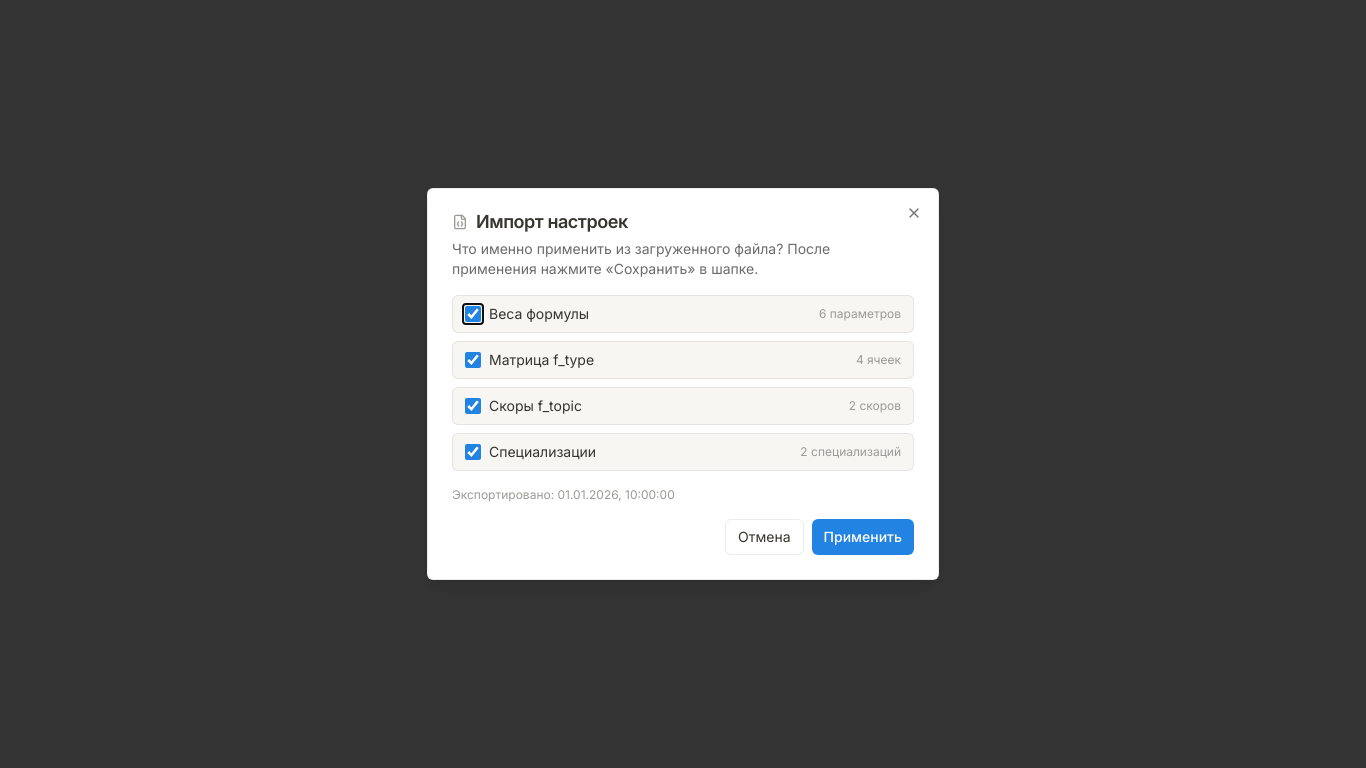
Scenario: ImportPreviewDialog › disables apply when nothing selected
The width and height of the screenshot is (1366, 768).
Click the checkbox labelled "Веса формулы". click: (473, 314)
box: [465,306,481,322]
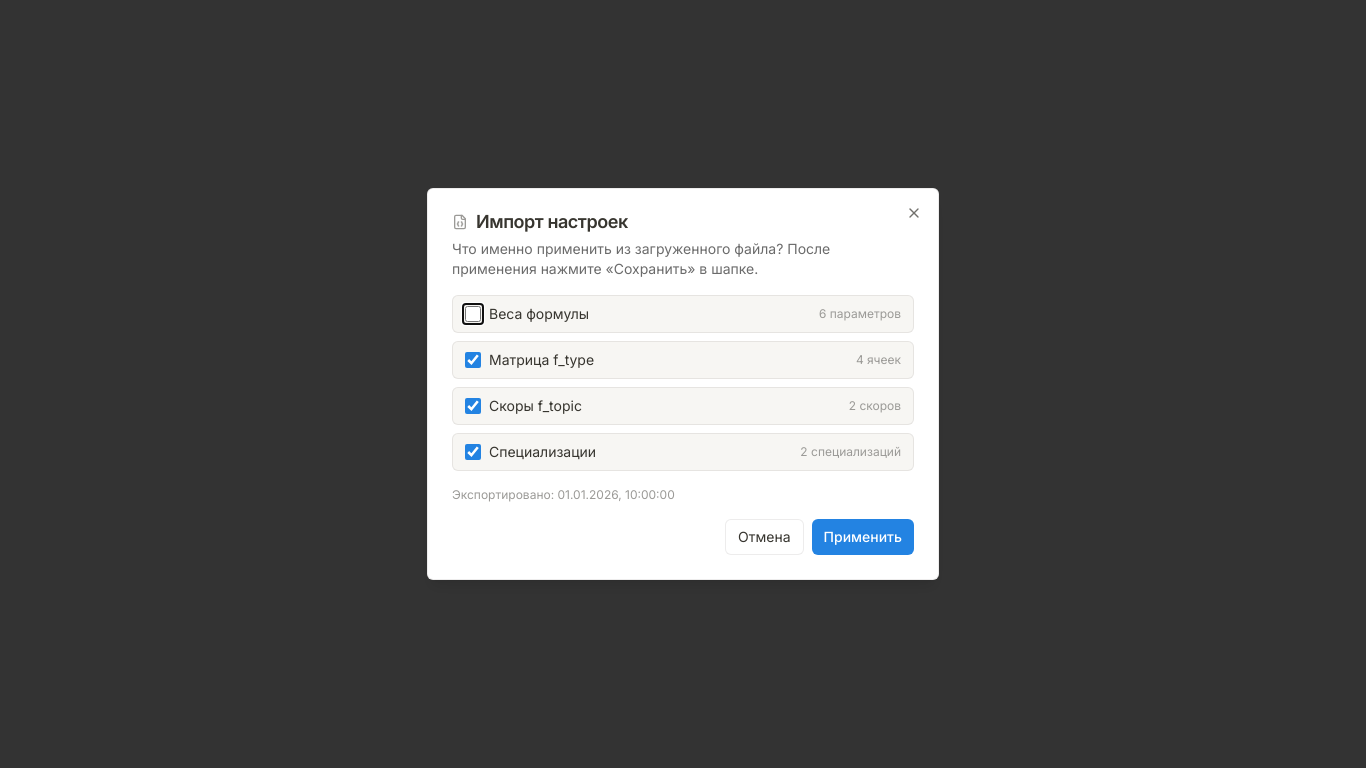
Click the checkbox labelled "Матрица f_type". click: (473, 360)
box: [465,352,481,368]
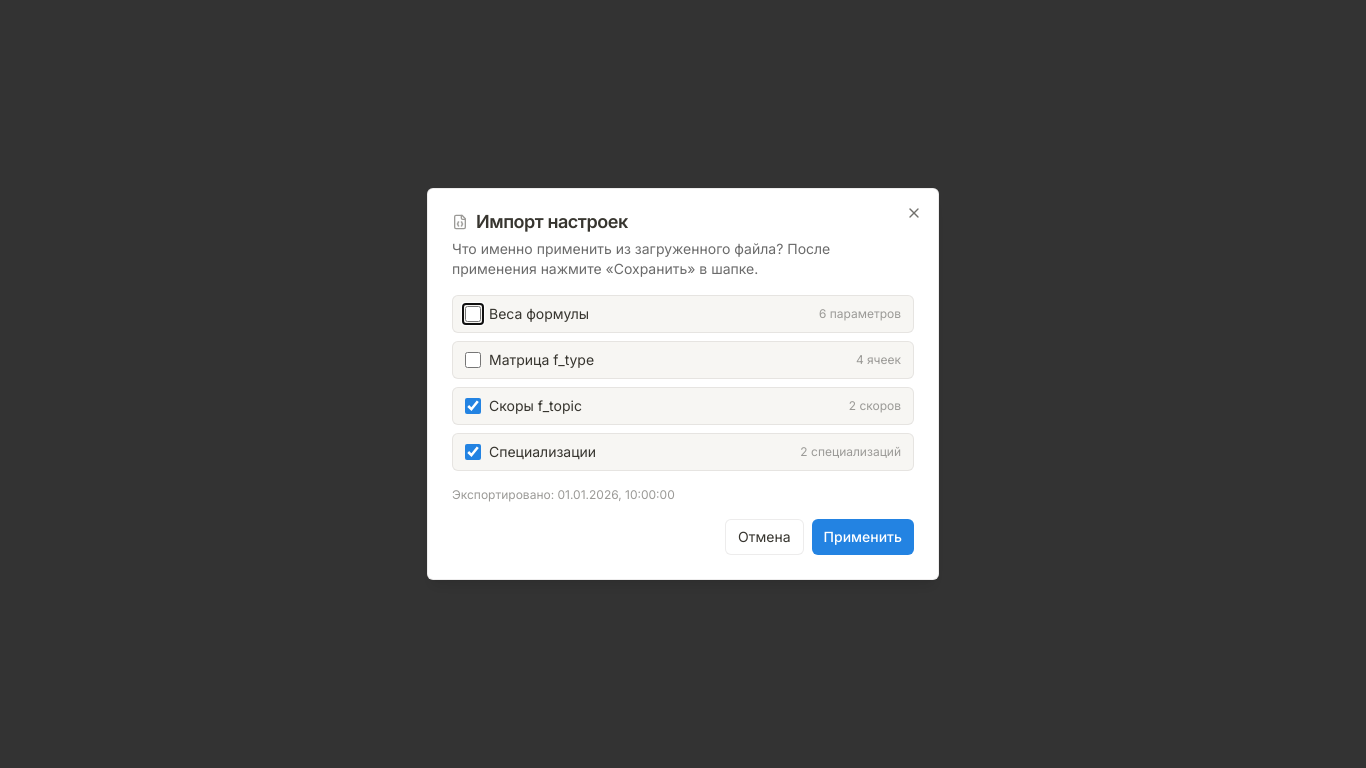
Click the checkbox labelled "Скоры f_topic". click: (473, 406)
box: [465,398,481,414]
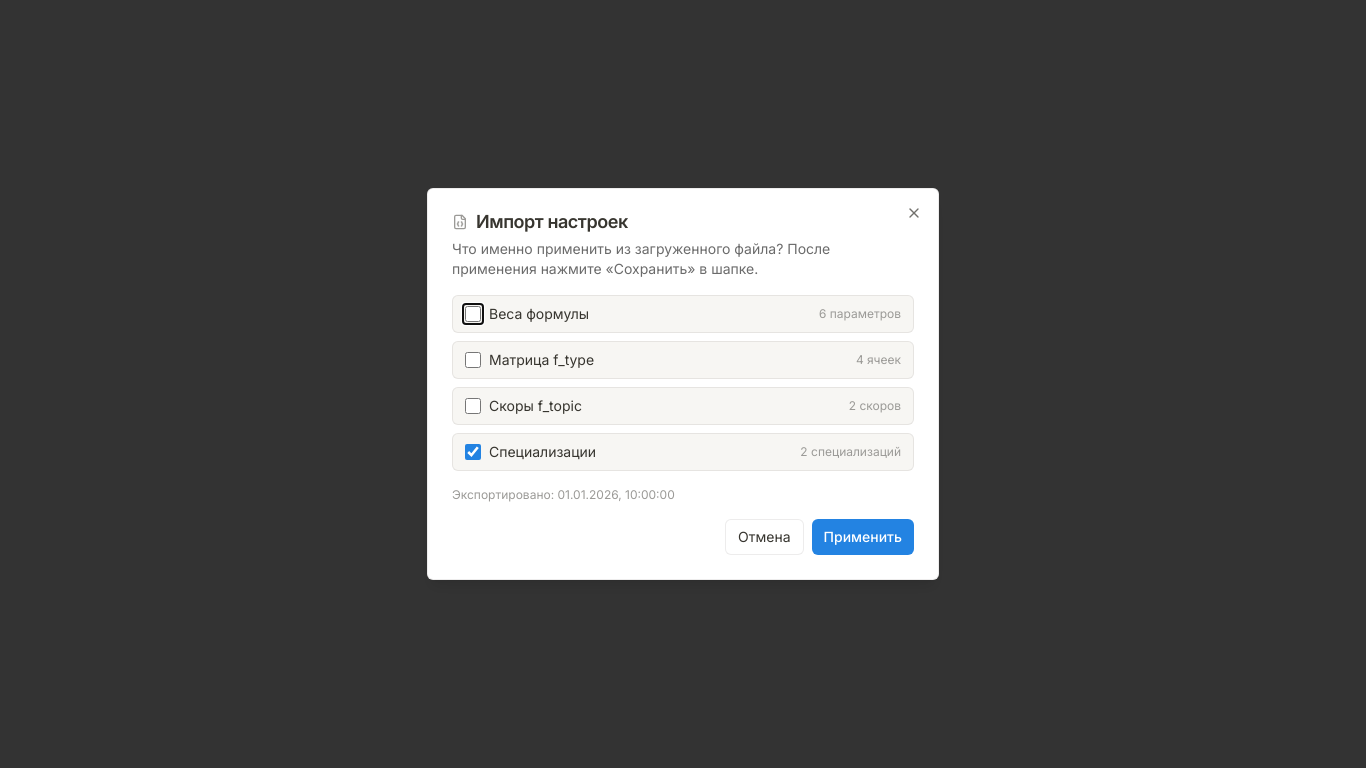
Click the checkbox labelled "Специализации". click: (473, 452)
box: [465,444,481,460]
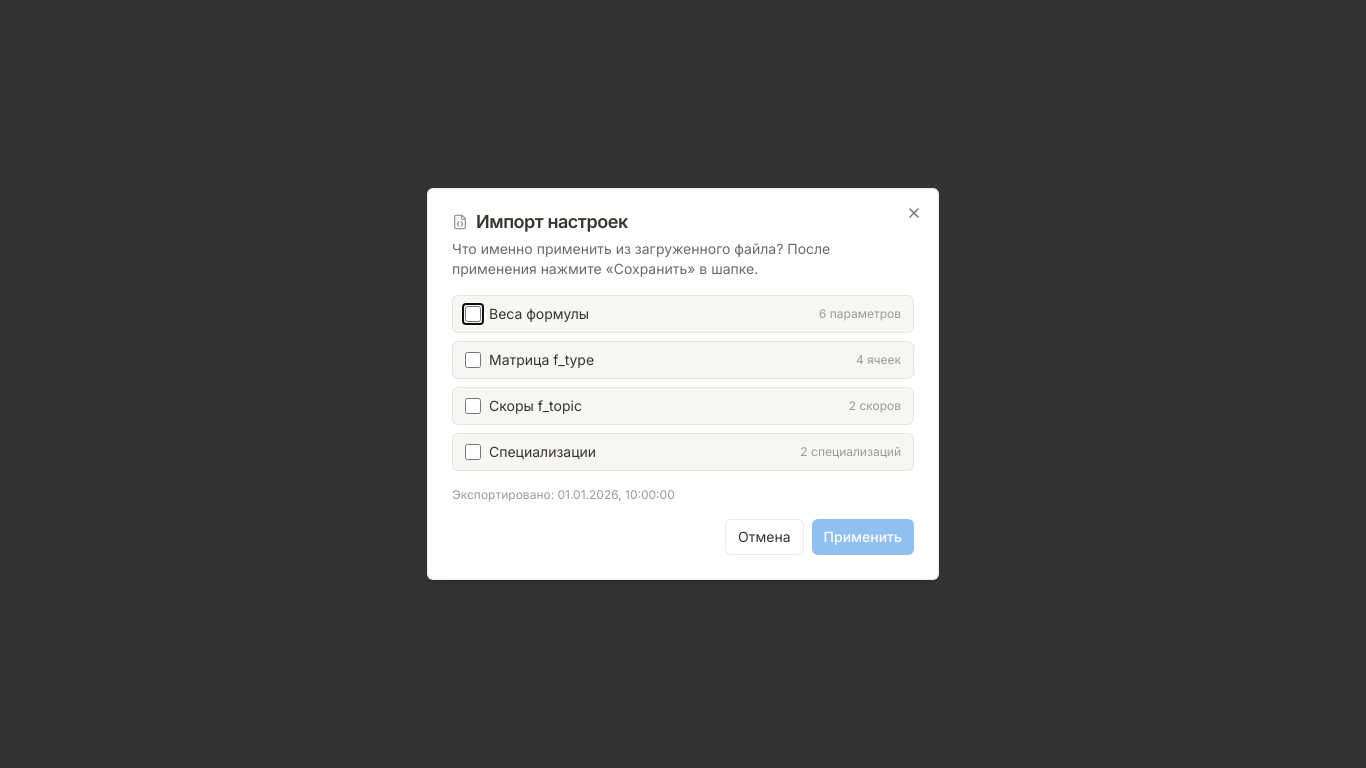
Check: the button "Применить" is disabled, box [812,519,914,555]
